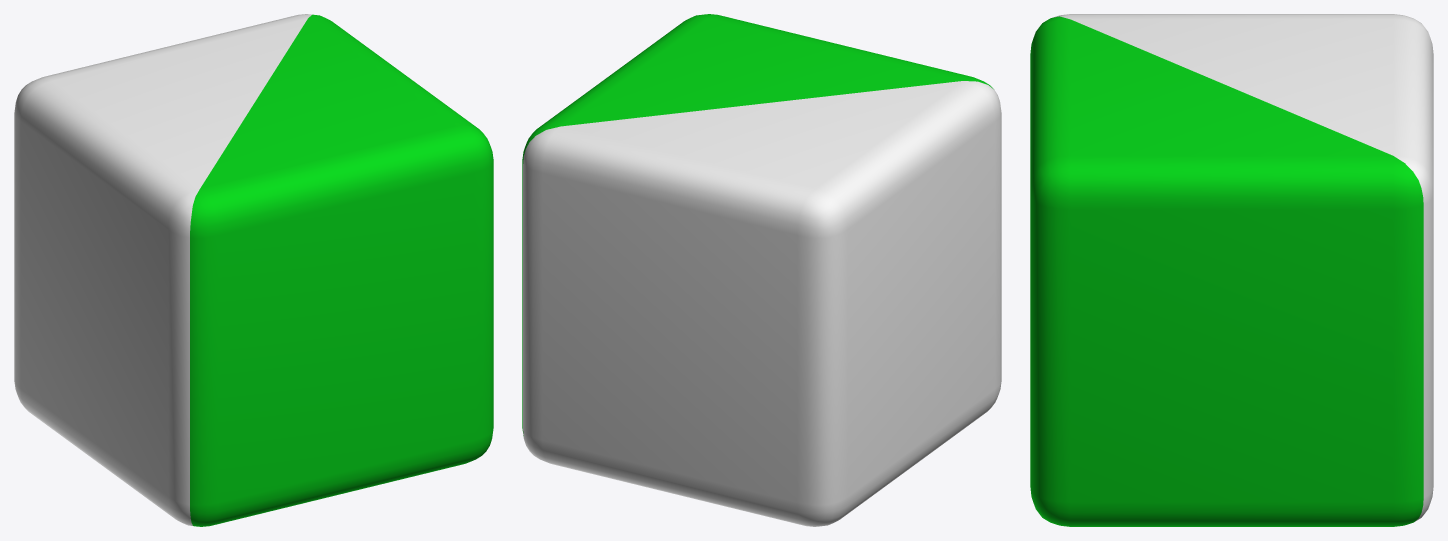
3 renders of one model, left to right at view 1: azimuth 30°, elevation 25°; view 2: azimuth 150°, elevation 25°; view 3: azimuth 270°, elevation 25°, orthographic. The views are drawn at different scales.
Visible parts, largest first — view 1: Box045; view 2: Box045; view 3: Box045.
Boxes of the visible parts, bbox=[...] form: Box045: bbox=[14, 14, 493, 526]; Box045: bbox=[522, 14, 1001, 526]; Box045: bbox=[1030, 14, 1433, 526].
Size of the model in its own units: 41.25 by 41.25 by 41.25.
